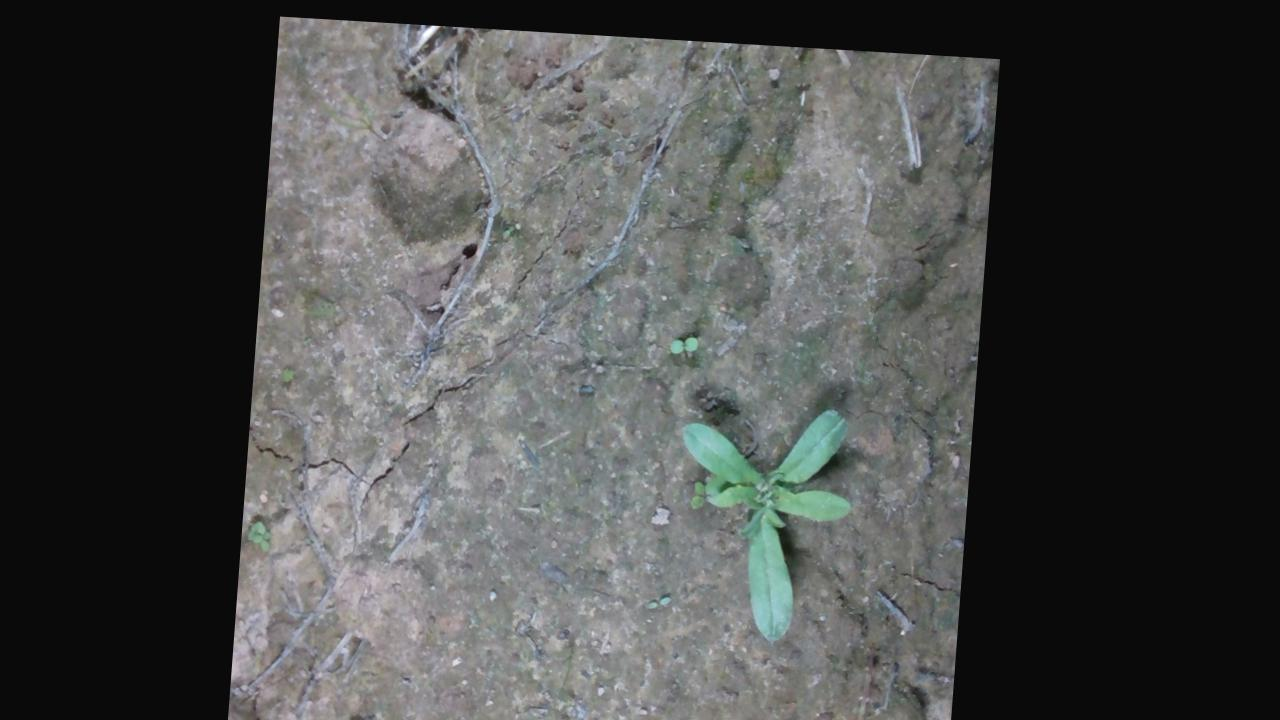weed: (670, 324, 704, 349)
